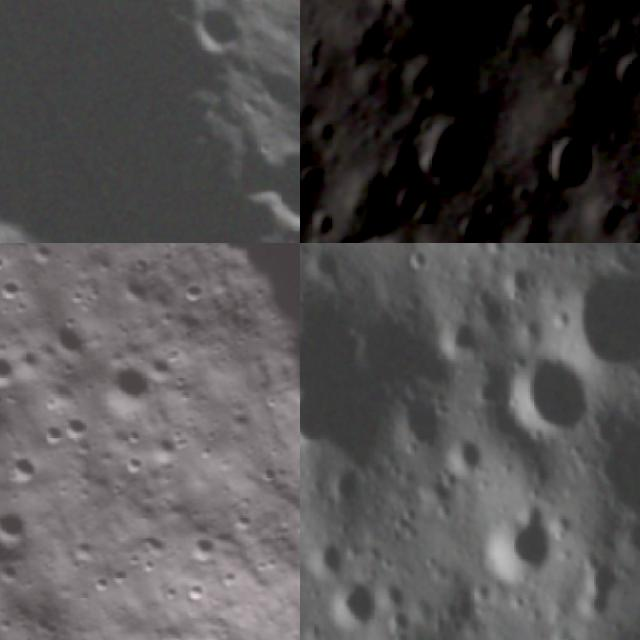crater: (0, 0, 300, 243), (300, 315, 447, 464), (500, 350, 603, 444), (557, 262, 640, 376), (407, 104, 490, 208), (573, 413, 640, 531), (474, 506, 558, 590), (214, 133, 294, 214), (82, 350, 163, 430), (248, 128, 300, 243), (178, 0, 253, 65), (326, 576, 385, 638), (540, 130, 596, 194), (267, 1, 300, 98), (42, 306, 99, 362), (248, 57, 300, 118), (569, 552, 614, 613), (468, 364, 518, 409), (606, 45, 640, 111), (469, 279, 508, 335), (0, 441, 44, 489), (304, 530, 348, 578), (435, 312, 480, 358), (300, 391, 333, 453), (0, 334, 26, 405), (300, 243, 341, 286), (0, 259, 32, 313), (130, 518, 172, 559), (441, 432, 487, 467), (78, 561, 117, 601), (329, 460, 368, 500), (33, 412, 71, 451), (111, 442, 150, 480), (263, 204, 300, 243), (0, 497, 32, 541), (175, 274, 212, 312), (148, 429, 185, 466), (300, 159, 331, 202), (503, 263, 537, 298), (382, 606, 418, 638), (0, 551, 28, 591), (182, 576, 214, 607), (252, 458, 284, 488), (60, 408, 88, 438), (300, 462, 313, 522), (405, 244, 432, 272), (158, 580, 184, 606), (215, 564, 241, 590), (0, 602, 19, 636), (137, 552, 161, 577), (108, 560, 131, 583), (121, 546, 144, 568)
